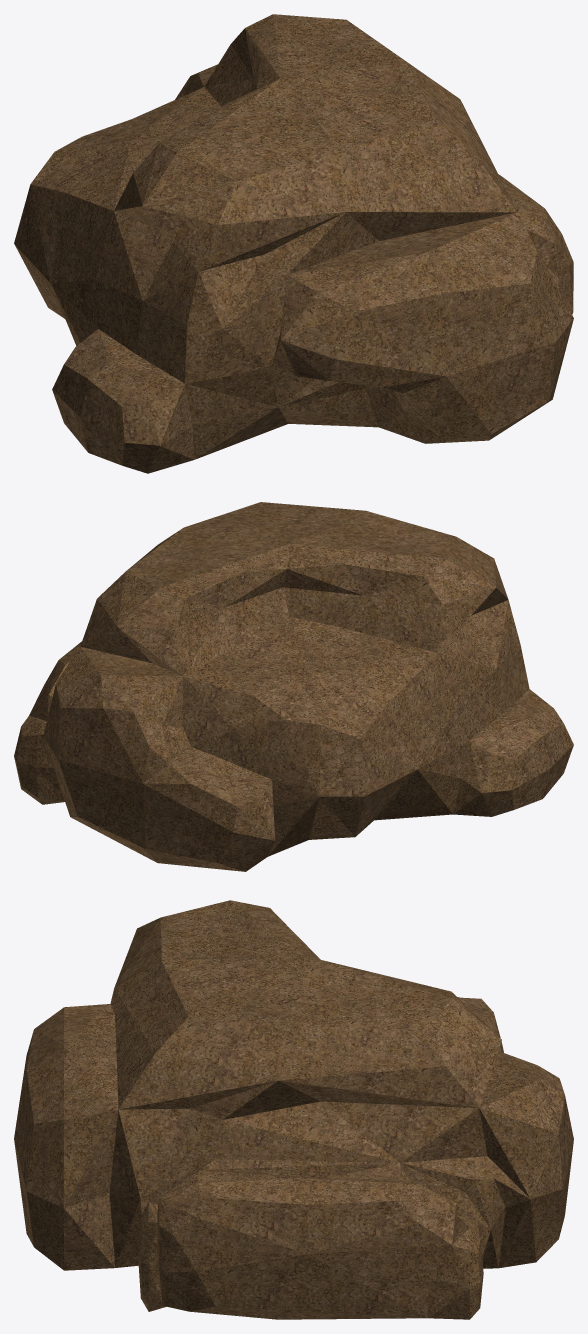
Rendered from conjunto-de-piedras-marrones.glb.
3 renders of one model, top to bottom at view 1: azimuth 30°, elevation 25°; view 2: azimuth 150°, elevation 25°; view 3: azimuth 270°, elevation 25°, orthographic. The views are drawn at different scales.
Visible parts, largest first — view 1: 6523; view 2: 6523; view 3: 6523.
Part boxes in pixels (box(x1,y1,x2,y2)): 6523: box(14, 14, 573, 473); 6523: box(14, 502, 573, 871); 6523: box(14, 900, 573, 1319).
Bounding box in the file's own units: 2.23 × 1.27 × 2.37.
1 material, 1 textured.
